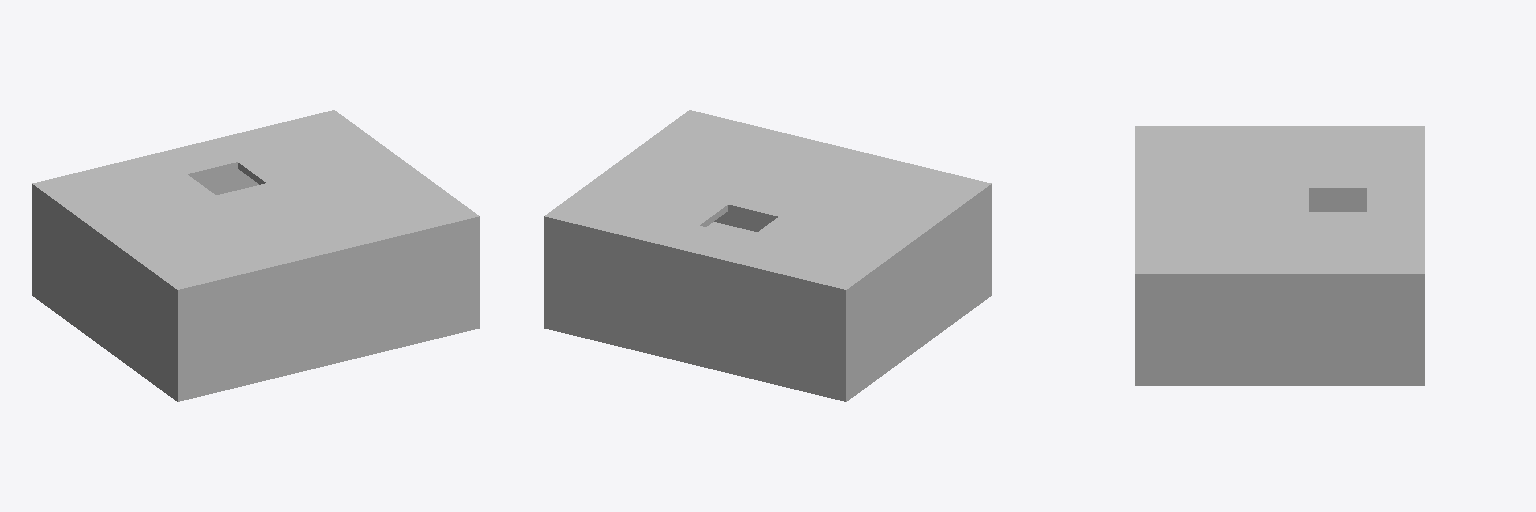
Rendered from lightingTest.obj.
The picture shows the model from 3 angles: view 1: azimuth 30°, elevation 25°; view 2: azimuth 150°, elevation 25°; view 3: azimuth 270°, elevation 25°; orthographic projection.
Visible parts, largest first — view 1: Cube, Cube.001; view 2: Cube, Cube.001; view 3: Cube.001, Cube.
Boxes of the visible parts, box(x1,y1,x2,y2) form: Cube: box(32, 169, 479, 401); Cube.001: box(32, 110, 479, 296); Cube: box(544, 191, 991, 401); Cube.001: box(544, 110, 991, 296); Cube.001: box(1135, 126, 1424, 279); Cube: box(1135, 194, 1424, 385).
Size of the model in its own units: 12 by 4.25 by 10.